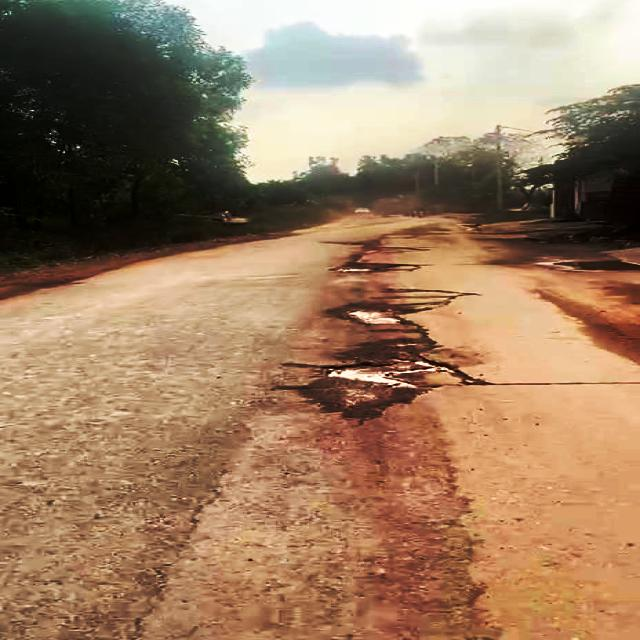pothole: (312, 353, 477, 394), (332, 301, 418, 330), (331, 258, 415, 276)
